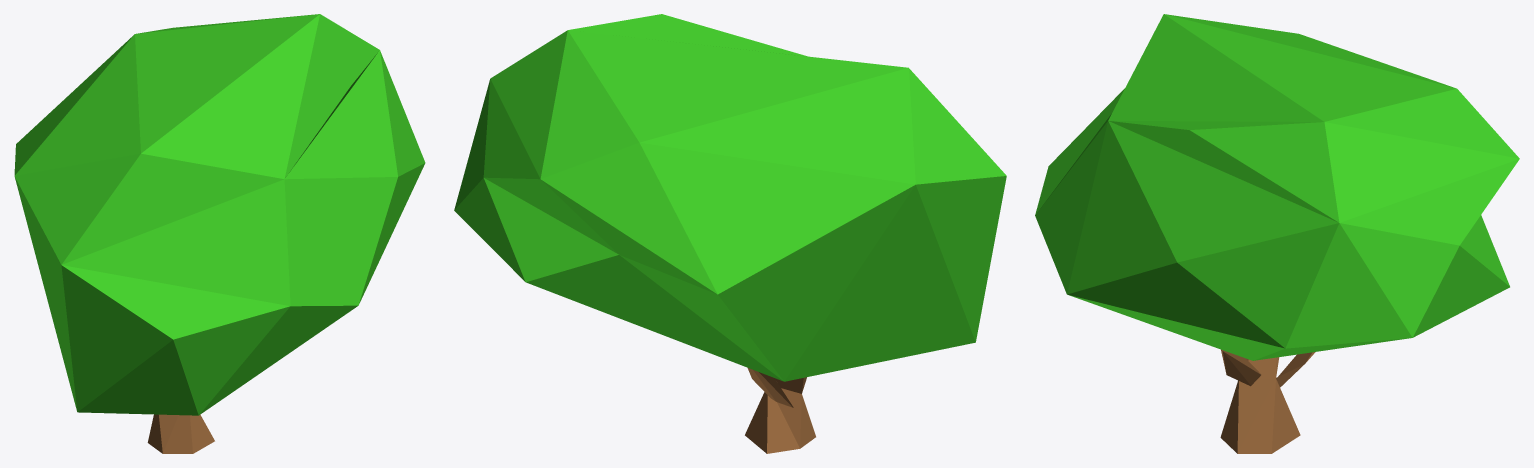
File: bush2.fbx
3 views of the same model, side by side, from view 1: azimuth 30°, elevation 25°; view 2: azimuth 150°, elevation 25°; view 3: azimuth 270°, elevation 25° (orthographic). The views are drawn at different scales.
Visible parts, largest first — view 1: bush2; view 2: bush2; view 3: bush2.
Boxes of the visible parts, bbox=[...] form: bush2: bbox=[14, 14, 425, 453]; bush2: bbox=[454, 14, 1006, 453]; bush2: bbox=[1035, 14, 1519, 453].
Size of the model in its own units: 1.6 by 1.31 by 1.4.
